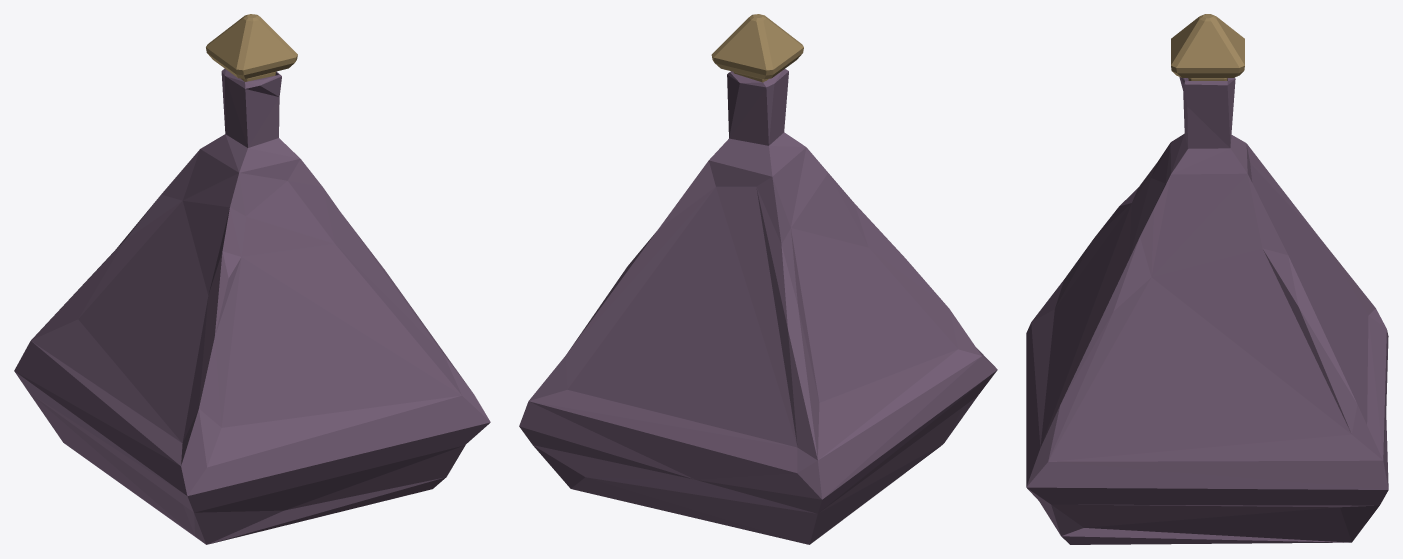
The model's file is WF_LP_HT_Props_PotionBottle.006.fbx.
The picture shows the model from 3 angles, left to right: view 1: azimuth 30°, elevation 25°; view 2: azimuth 150°, elevation 25°; view 3: azimuth 270°, elevation 25°; orthographic projection. The views are drawn at different scales.
Visible parts, largest first — view 1: WF_LP_HT_Props_PotionBottle.006; view 2: WF_LP_HT_Props_PotionBottle.006; view 3: WF_LP_HT_Props_PotionBottle.006.
Part boxes in pixels (x1,y1,x2,y2): WF_LP_HT_Props_PotionBottle.006: (14, 14, 490, 544); WF_LP_HT_Props_PotionBottle.006: (519, 14, 997, 544); WF_LP_HT_Props_PotionBottle.006: (1026, 14, 1388, 544).
Bounding box in the file's own units: 0.1883 × 0.2683 × 0.1873.
